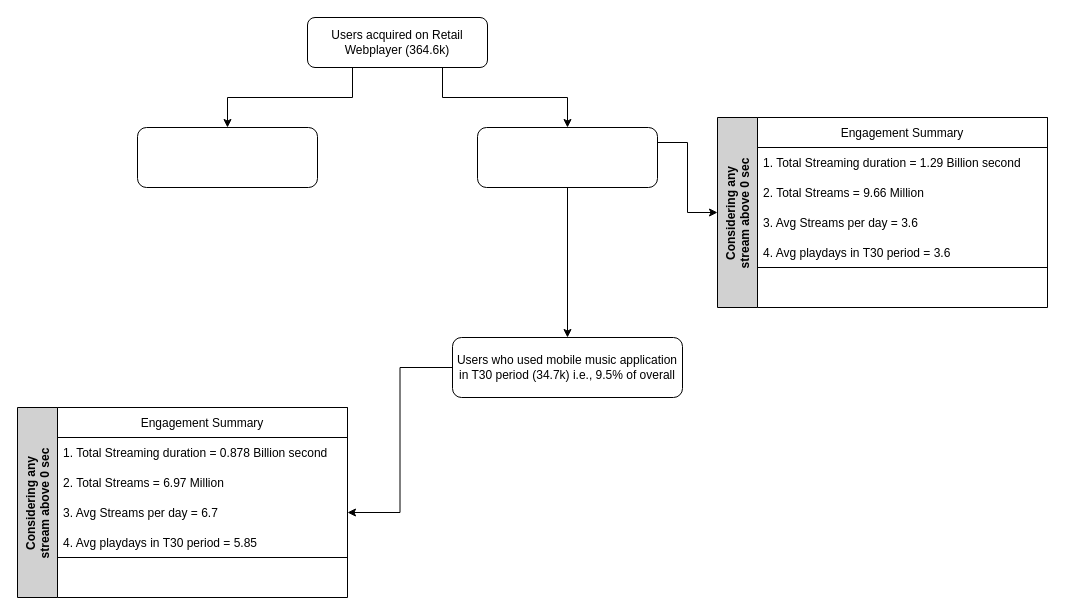
Some shapes in this 1065 by 615 pixel diagram are drawn without their labels. Each missing label, with the centre of its shape:
No streaming activity in T30 Period (274.4k) i.e., 75.26%: (227,157)
Streaming activity present in T30 period (90.2k) i.e., 24.74%: (567,157)
